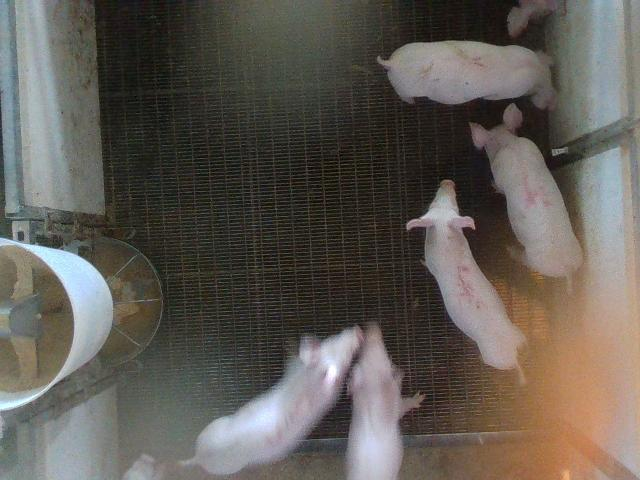pig-3: (181, 326, 364, 475)
pig-4: (472, 104, 582, 279)
pig-5: (406, 180, 526, 381)
